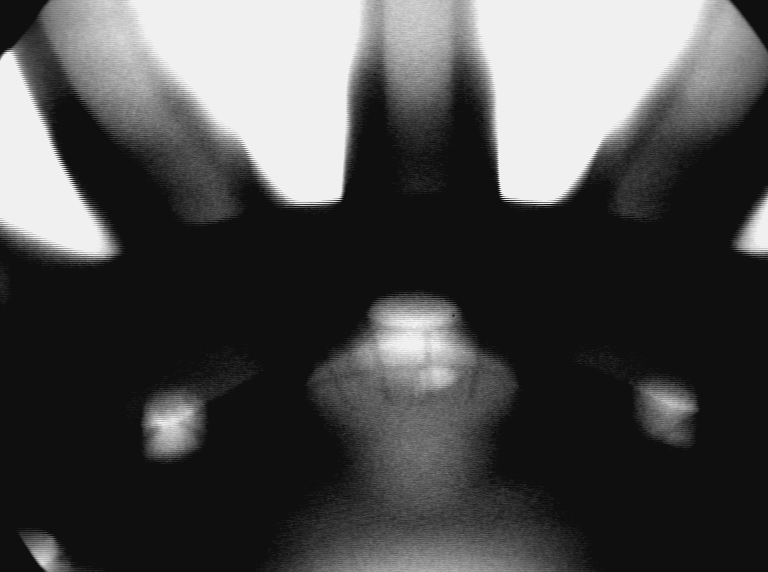defect: (414, 362, 464, 393)
